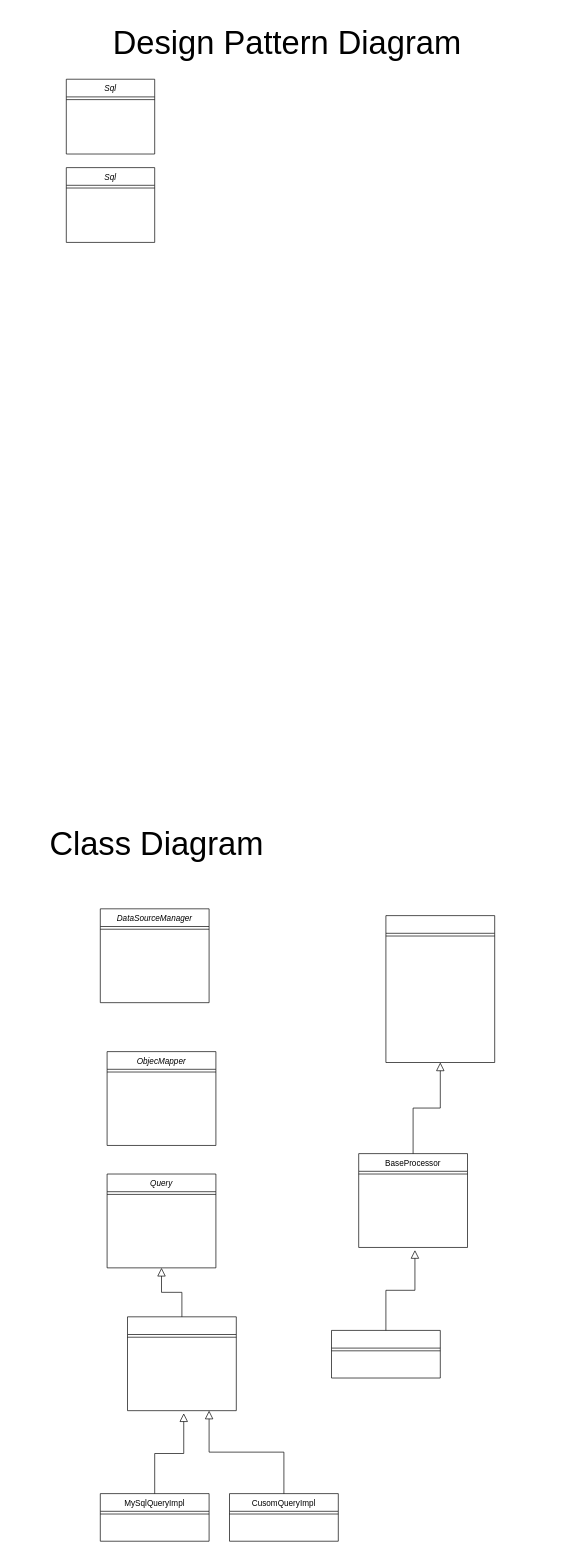
This 574x1553 diagram has some shape labels left out. The centre of each missing label's shape, as x and y in pixels:
CustomProcessor: [385,1354]
DefaultQueryImpl: [181,1363]
IProcessor: [440,988]
